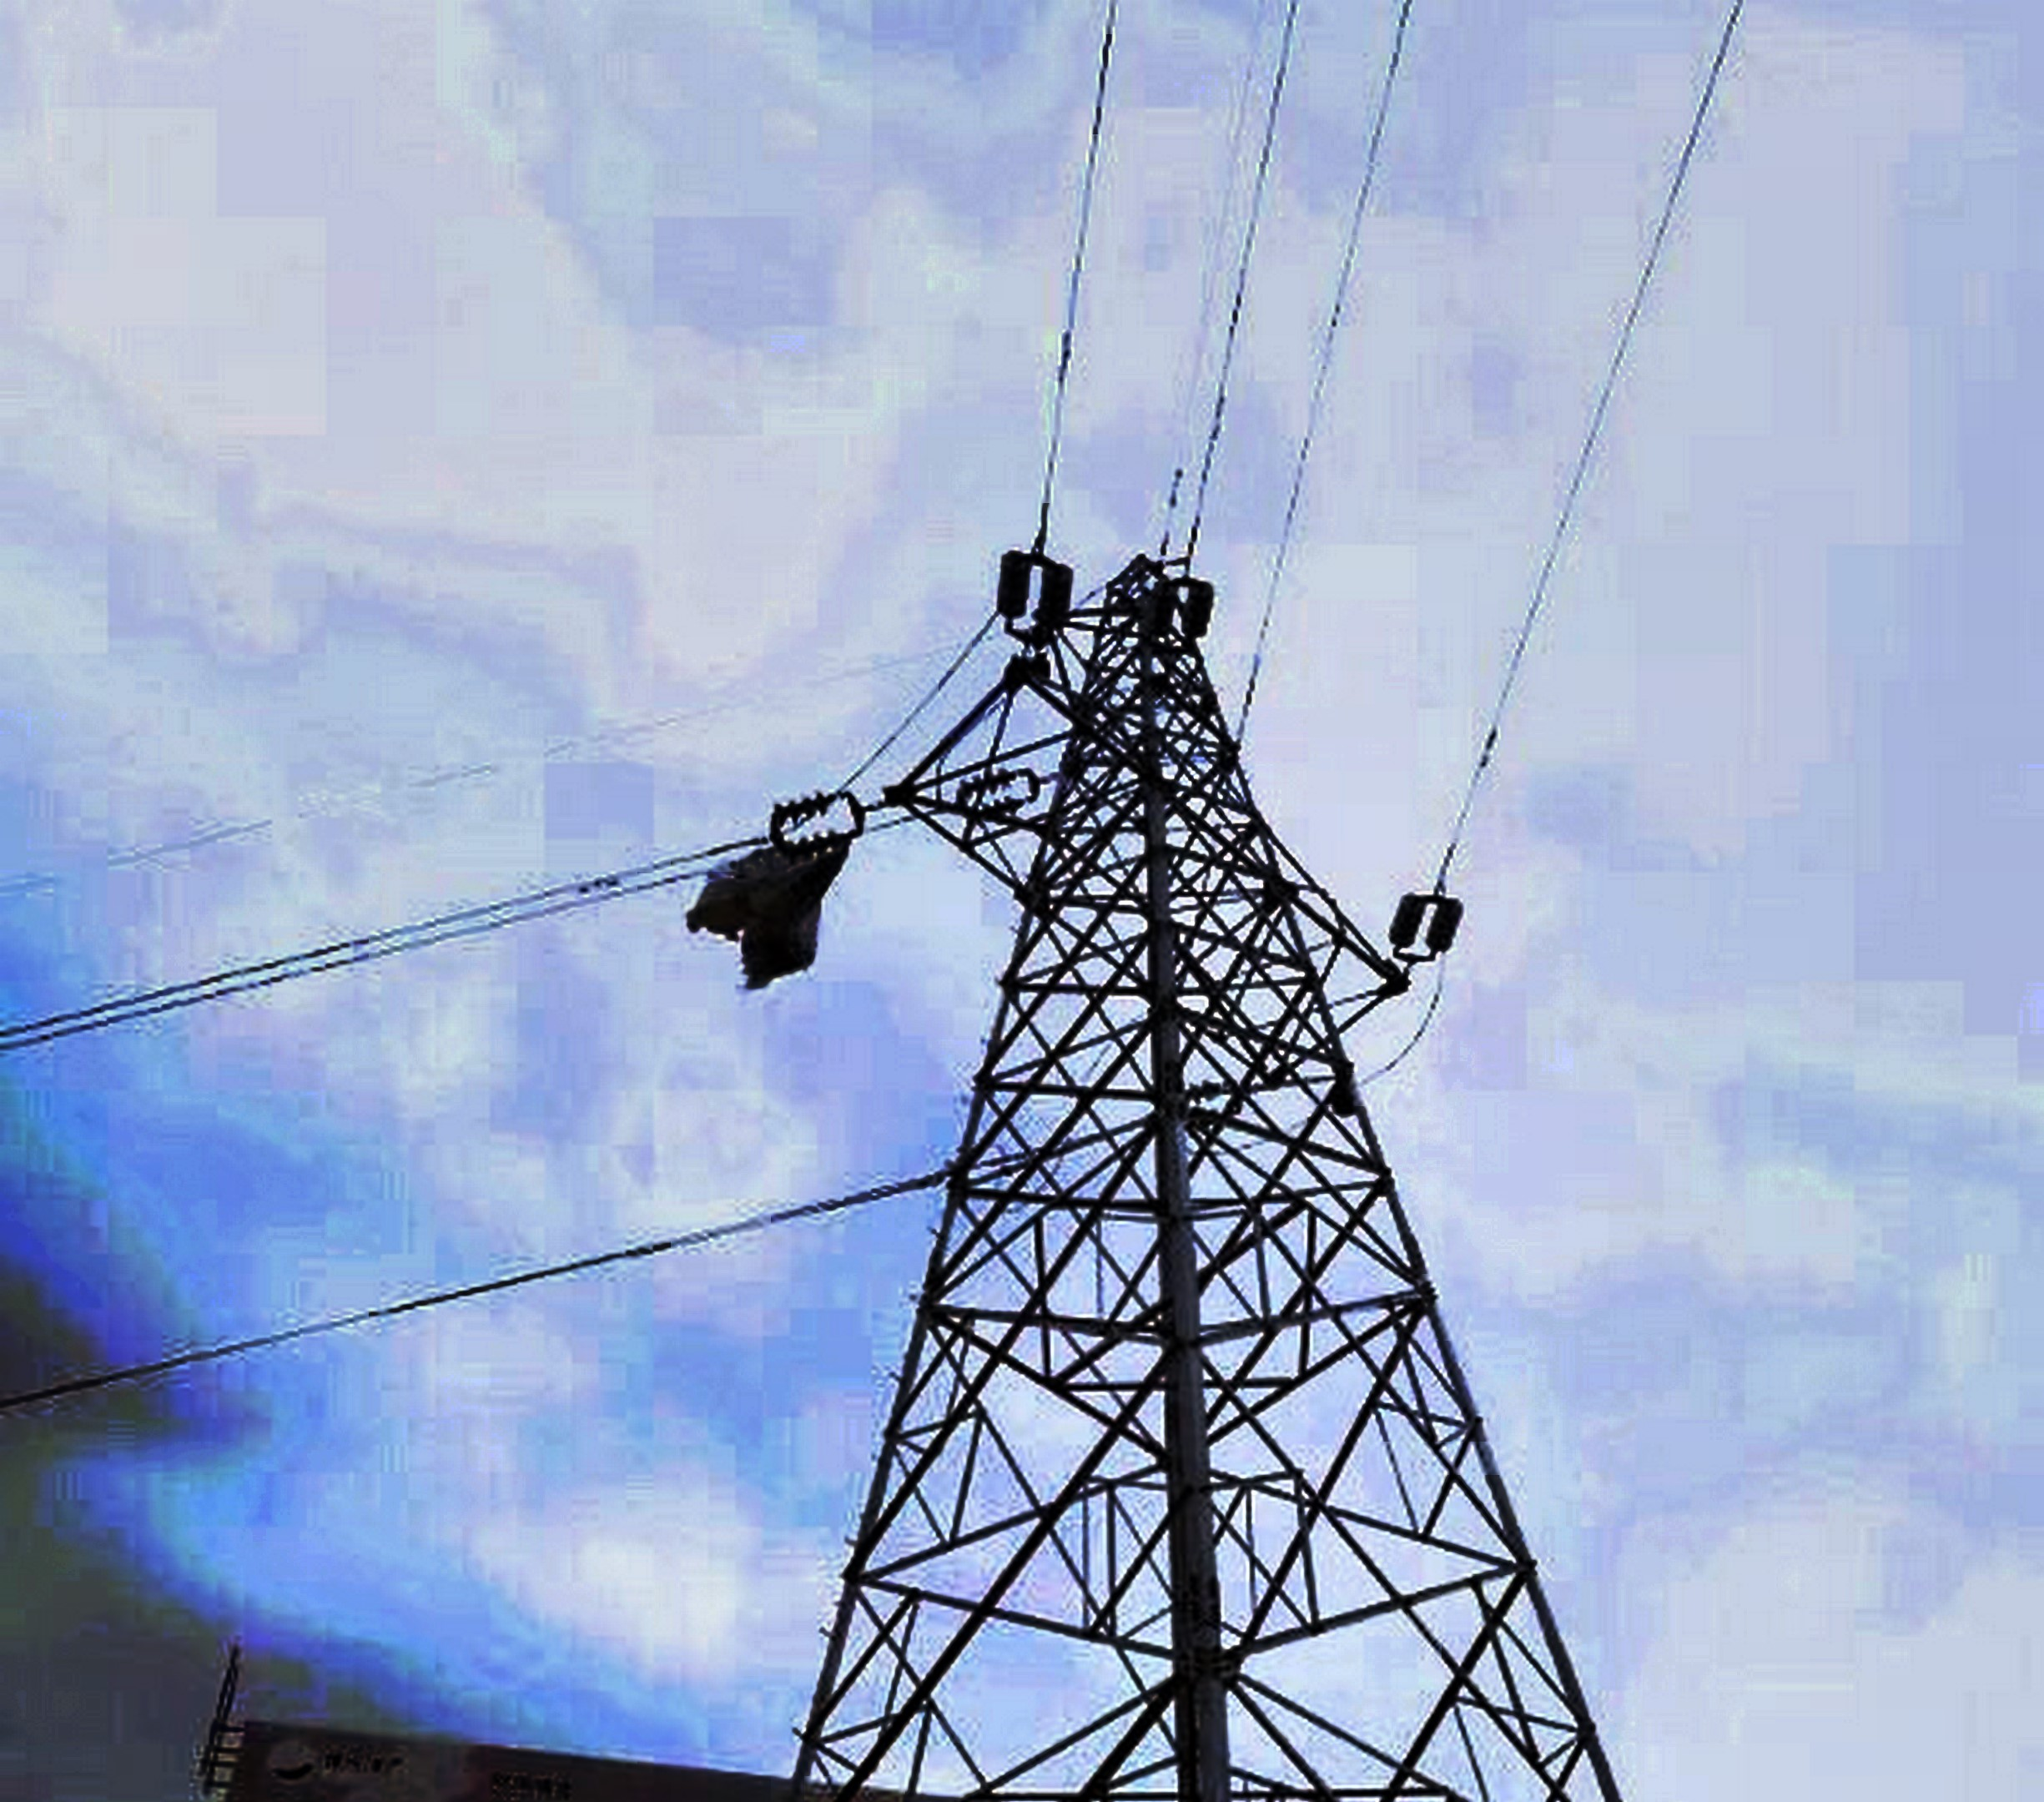wire foreign body: (668, 788, 887, 1005)
